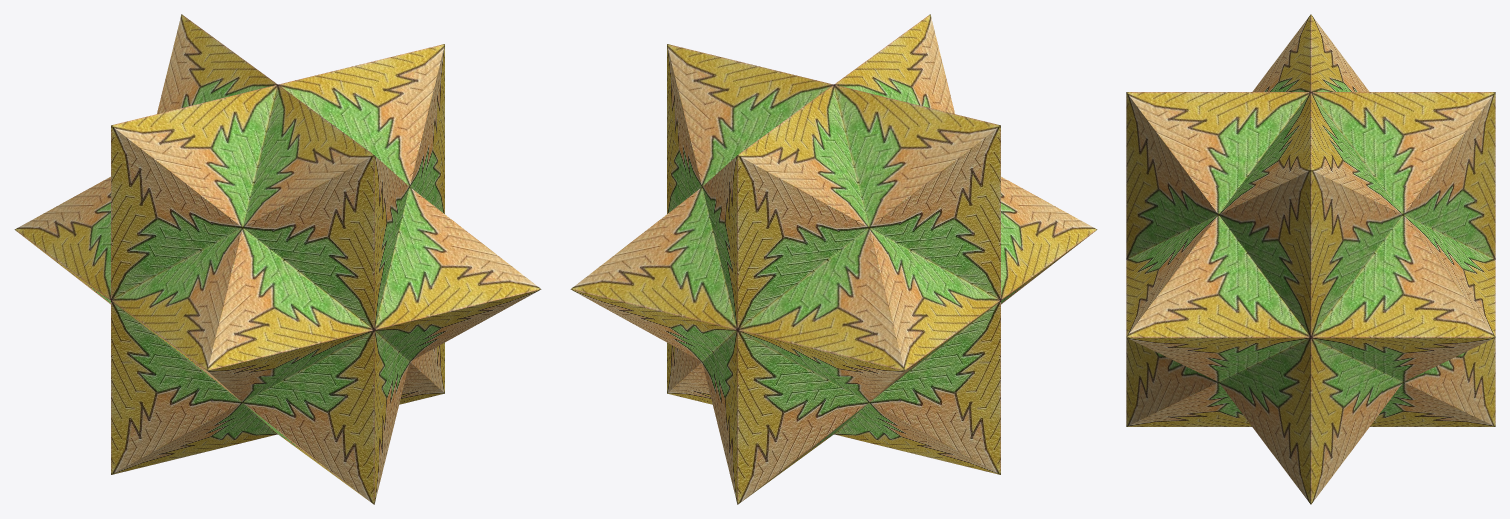
Rendered from Escher.obj.
3 views of the same model, side by side, from view 1: azimuth 30°, elevation 25°; view 2: azimuth 150°, elevation 25°; view 3: azimuth 270°, elevation 25° (orthographic). The views are drawn at different scales.
Size of the model in its own units: 2 by 2 by 2.
Materials: 1 (1 with a texture image).
